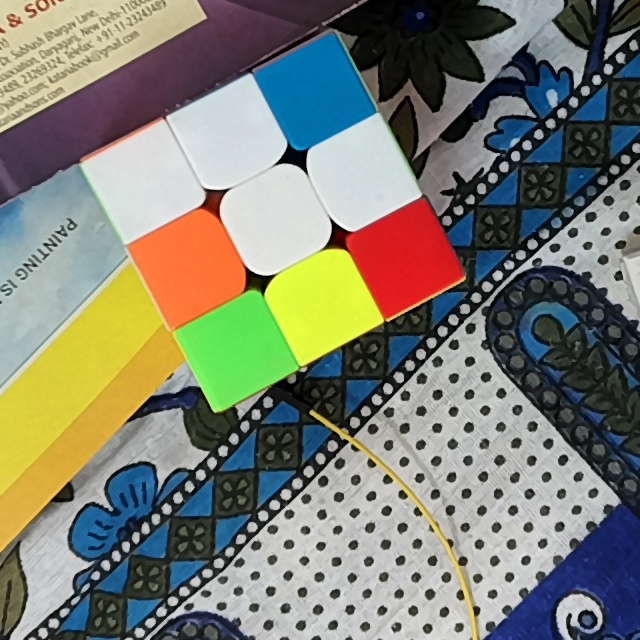tile: (158, 232, 227, 297), (112, 149, 179, 215), (243, 187, 311, 252), (201, 319, 271, 382), (285, 60, 349, 126), (328, 140, 394, 204), (198, 105, 263, 169), (372, 225, 438, 288), (292, 269, 356, 333)
